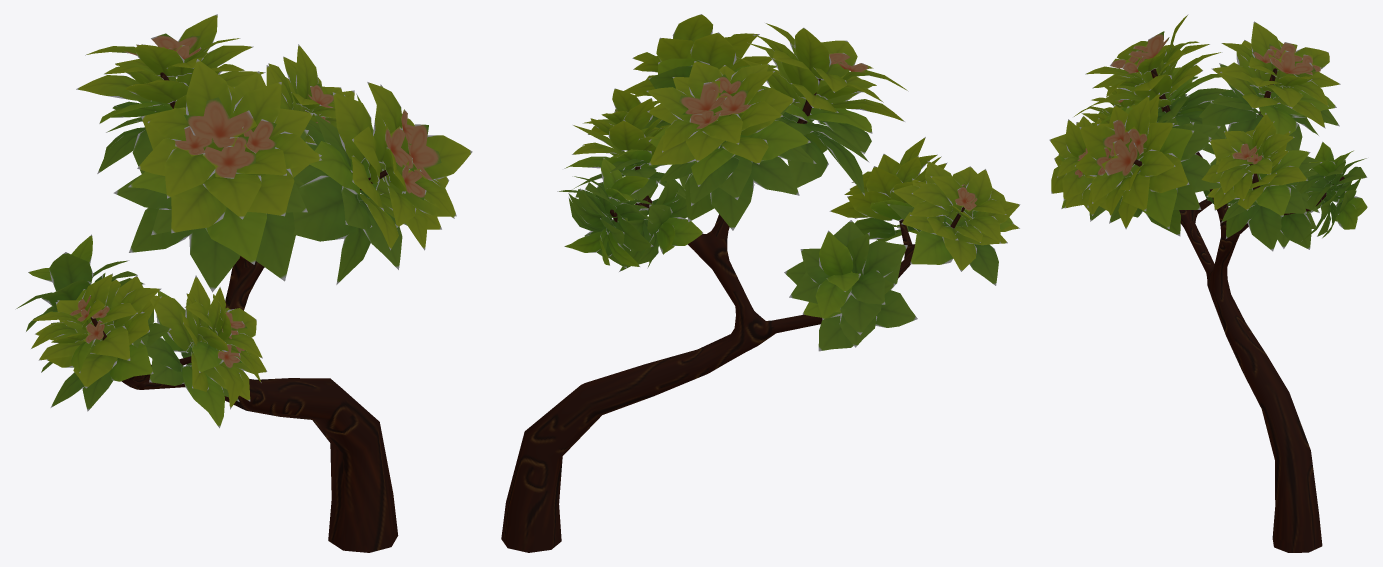
File: Town_Trees_LightGreen_2.glb
3 renders of one model, left to right at view 1: azimuth 30°, elevation 25°; view 2: azimuth 150°, elevation 25°; view 3: azimuth 270°, elevation 25°, orthographic. The views are drawn at different scales.
Visible parts, largest first — view 1: Object_42; view 2: Object_42; view 3: Object_42.
Boxes of the visible parts, x1=… form: Object_42: x1=15, y1=14, x2=472, y2=552; Object_42: x1=501, y1=14, x2=1020, y2=552; Object_42: x1=1049, y1=14, x2=1367, y2=552.
Bounding box in the file's own units: 71.15 × 86.09 × 56.43.
